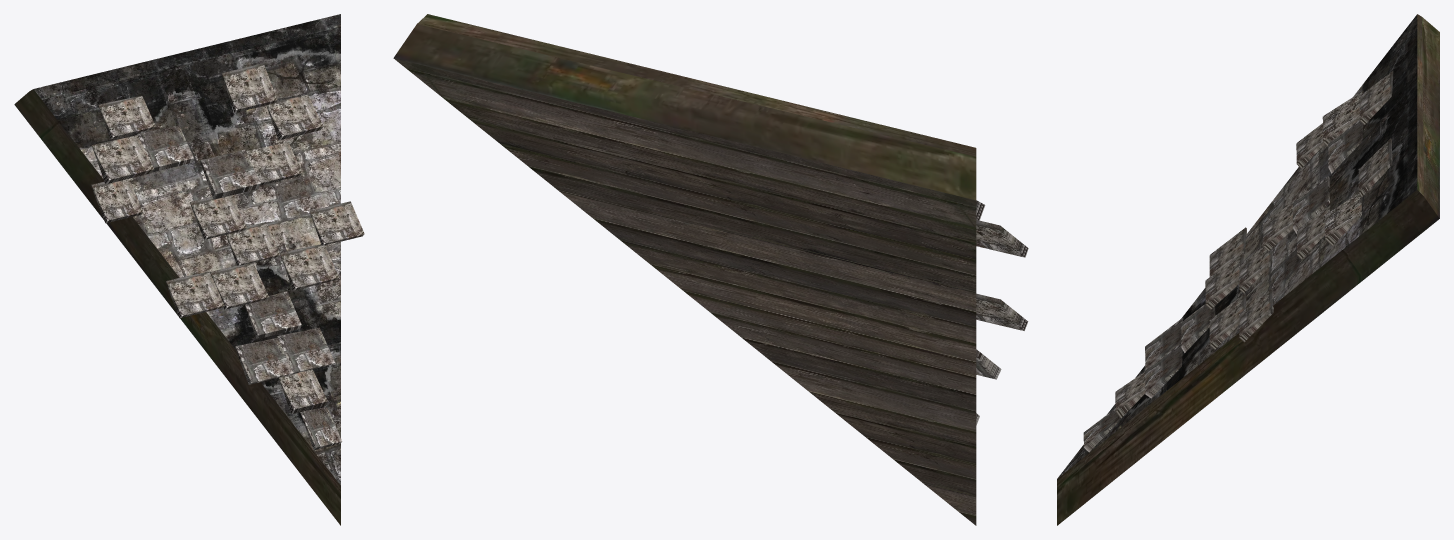
The picture shows the model from 3 angles, left to right: view 1: azimuth 30°, elevation 25°; view 2: azimuth 150°, elevation 25°; view 3: azimuth 270°, elevation 25°; orthographic projection. The views are drawn at different scales.
Visible parts, largest first — view 1: SM_BB_T3_Roof_Triangle_Large_LOD0; view 2: SM_BB_T3_Roof_Triangle_Large_LOD0; view 3: SM_BB_T3_Roof_Triangle_Large_LOD0.
Part boxes in pixels (bbox=[...]): SM_BB_T3_Roof_Triangle_Large_LOD0: bbox=[14, 14, 364, 525]; SM_BB_T3_Roof_Triangle_Large_LOD0: bbox=[393, 14, 1028, 525]; SM_BB_T3_Roof_Triangle_Large_LOD0: bbox=[1057, 14, 1439, 525].
Size of the model in its own units: 3.19 by 3.37 by 2.76.
Materials: 3 (3 with a texture image).
